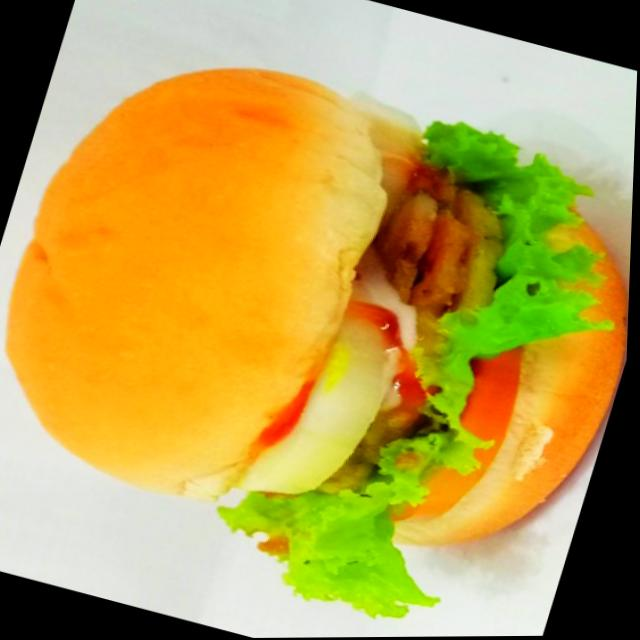burger: (0, 15, 639, 640)
